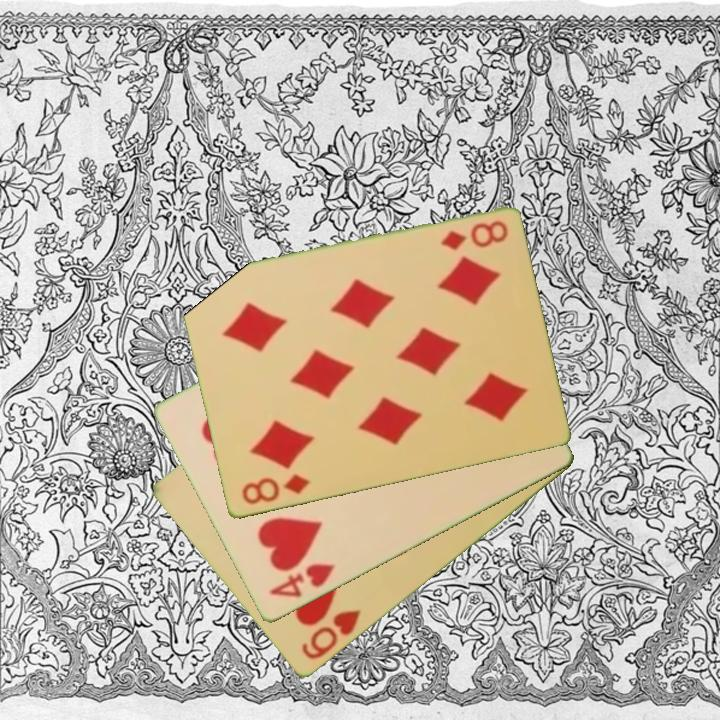4h: (265, 560, 338, 601)
6h: (297, 606, 364, 663)
8d: (238, 471, 313, 508), (437, 217, 511, 254)
